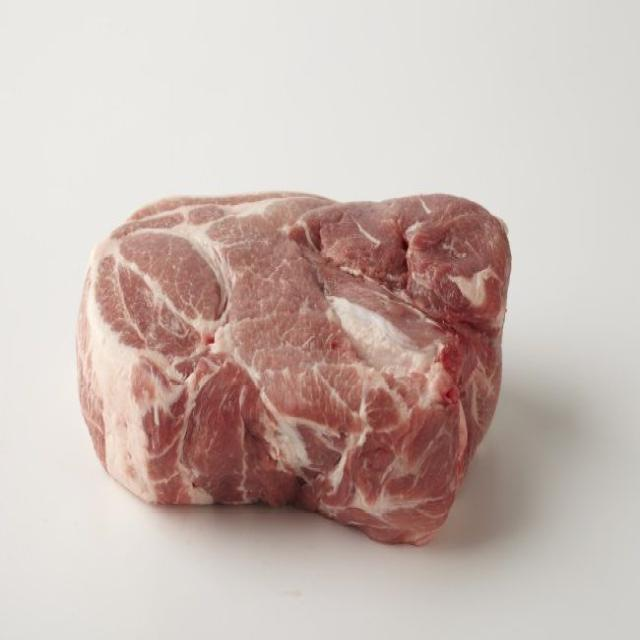Pork: (79, 192, 510, 544)
